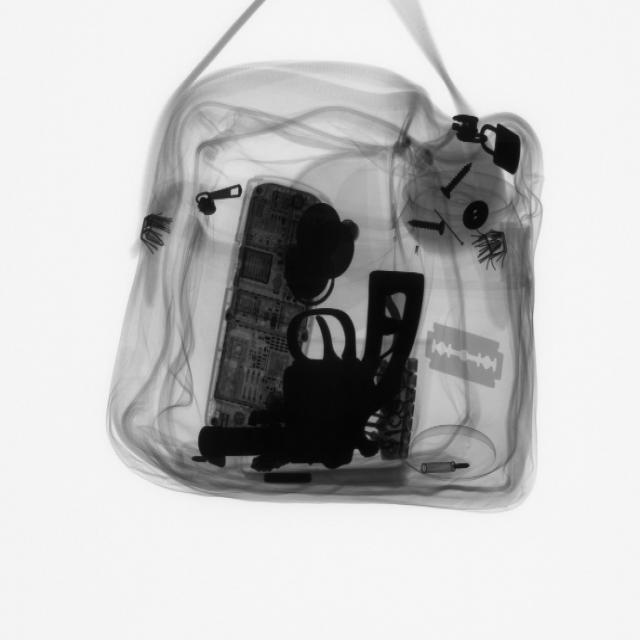BLADE: (419, 320, 510, 394)
GUN: (198, 259, 419, 472)
SCREW: (437, 162, 478, 204), (406, 213, 451, 241)
